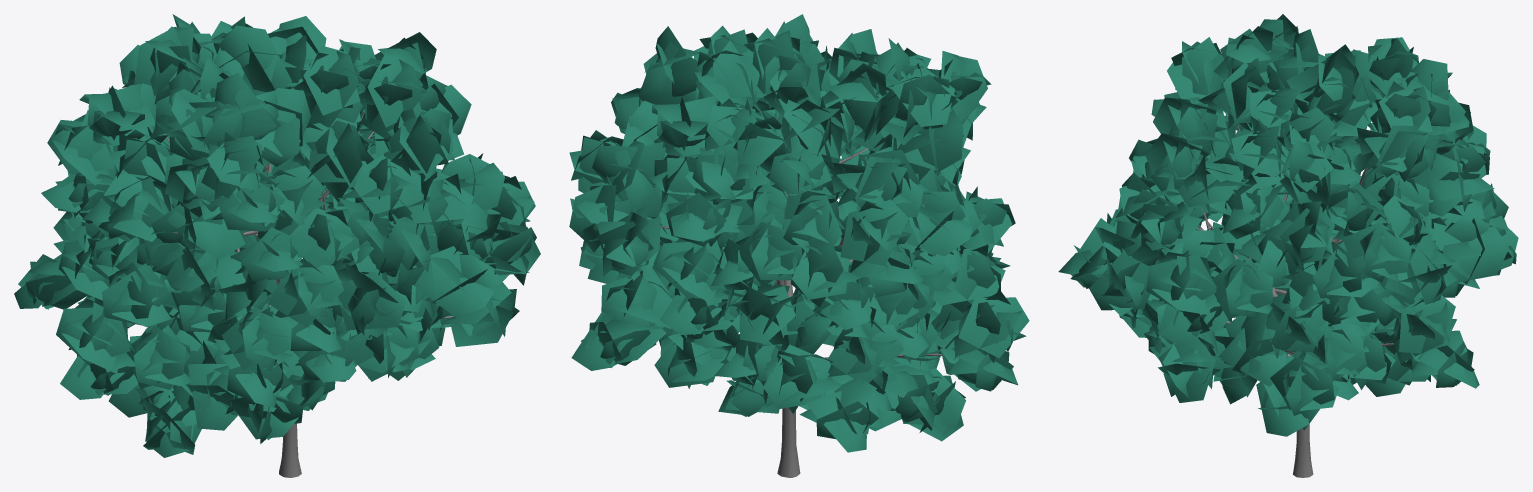
3 views of the same model, side by side, from view 1: azimuth 30°, elevation 25°; view 2: azimuth 150°, elevation 25°; view 3: azimuth 270°, elevation 25° (orthographic). The views are drawn at different scales.
Visible parts, largest first — view 1: AM113_032_fraxinus; view 2: AM113_032_fraxinus; view 3: AM113_032_fraxinus.
Part boxes in pixels (x1=…): AM113_032_fraxinus: x1=14, y1=14, x2=540, y2=477; AM113_032_fraxinus: x1=569, y1=14, x2=1029, y2=477; AM113_032_fraxinus: x1=1058, y1=14, x2=1518, y2=477.
Bounding box in the file's own units: 5768 × 5561 × 5593.
